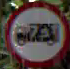Heavy Vehicles: (3, 0, 69, 68)
